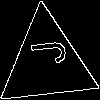J: (21, 37, 66, 68)
